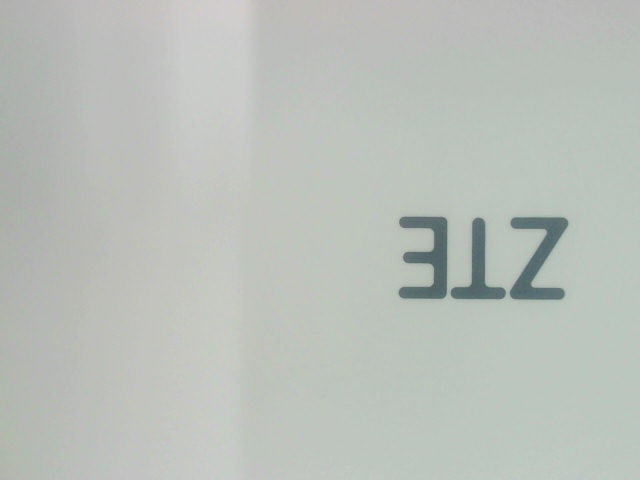AN_ZTELarge: (376, 202, 599, 317)
